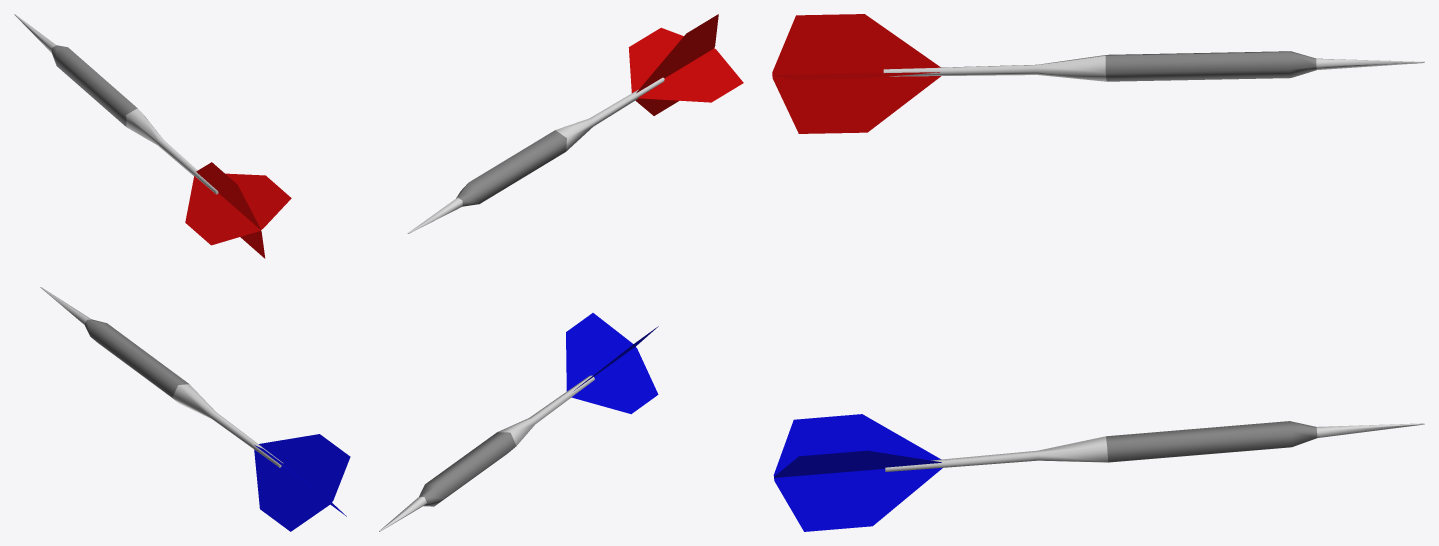
The model's file is Darts.fbx.
3 renders of one model, left to right at view 1: azimuth 30°, elevation 25°; view 2: azimuth 150°, elevation 25°; view 3: azimuth 270°, elevation 25°, orthographic. The views are drawn at different scales.
Visible parts, largest first — view 1: Dart_Blue002, Dart_Red001; view 2: Dart_Red001, Dart_Blue002; view 3: Dart_Red001, Dart_Blue002.
Part boxes in pixels (bbox=[...]): Dart_Blue002: bbox=[40, 287, 350, 531]; Dart_Red001: bbox=[14, 14, 291, 258]; Dart_Red001: bbox=[407, 14, 743, 233]; Dart_Blue002: bbox=[379, 313, 658, 531]; Dart_Red001: bbox=[772, 14, 1424, 133]; Dart_Blue002: bbox=[773, 414, 1424, 531].
Size of the model in its own units: 8.21 by 20.57 by 26.97.
